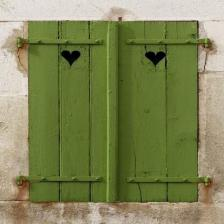green: (19, 21, 210, 203)
